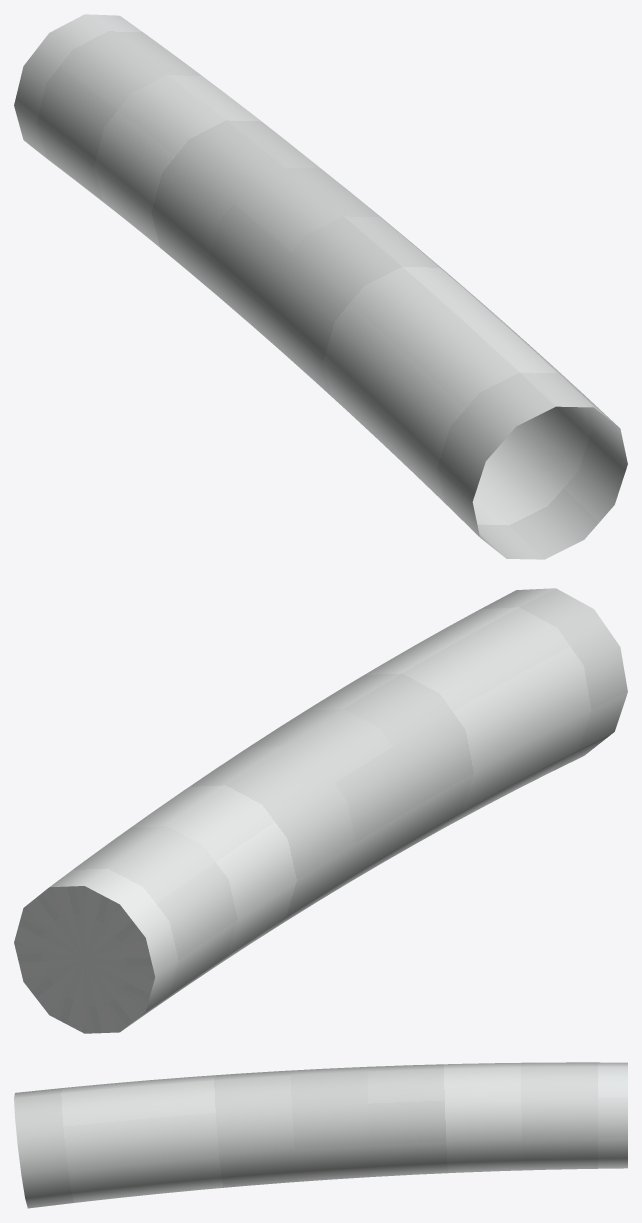
File: luminairearm_caltrans12ft_c6.obj
3 renders of one model, top to bottom at view 1: azimuth 30°, elevation 25°; view 2: azimuth 150°, elevation 25°; view 3: azimuth 270°, elevation 25°, orthographic. The views are drawn at different scales.
Parts seen in each view (by area): view 1: luminairearm_caltrans12ft_c6; view 2: luminairearm_caltrans12ft_c6; view 3: luminairearm_caltrans12ft_c6.
Part boxes in pixels (<box>): luminairearm_caltrans12ft_c6: <box>14,14,627,559</box>; luminairearm_caltrans12ft_c6: <box>14,588,627,1033</box>; luminairearm_caltrans12ft_c6: <box>14,1062,627,1208</box>.
Bounding box in the file's own units: 0.1925 × 0.2473 × 1.01.
